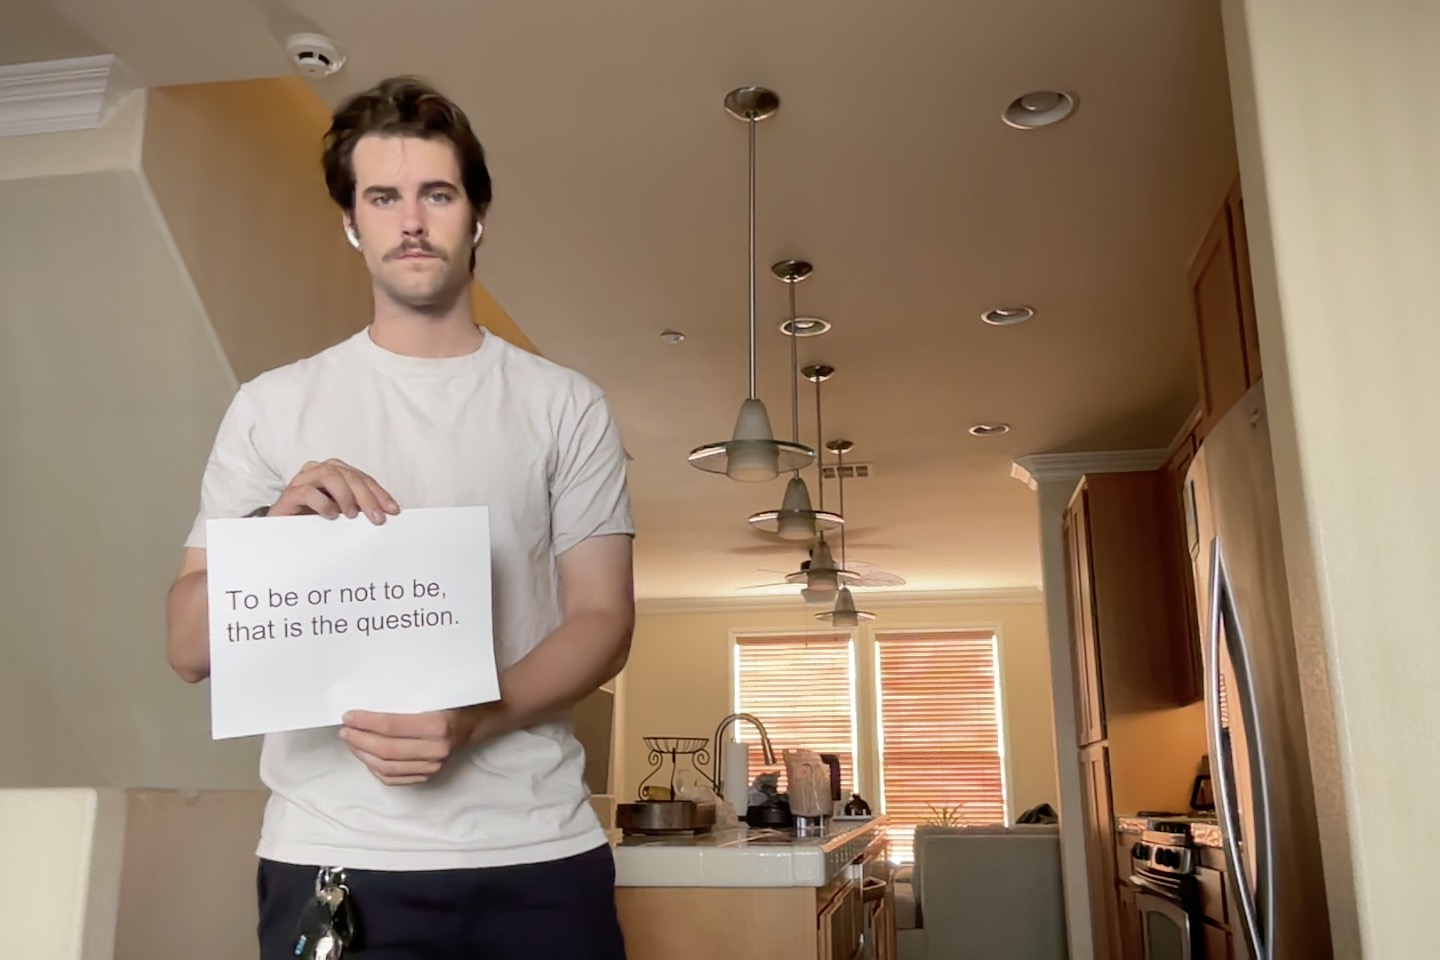phrase: (222, 573, 462, 645)
